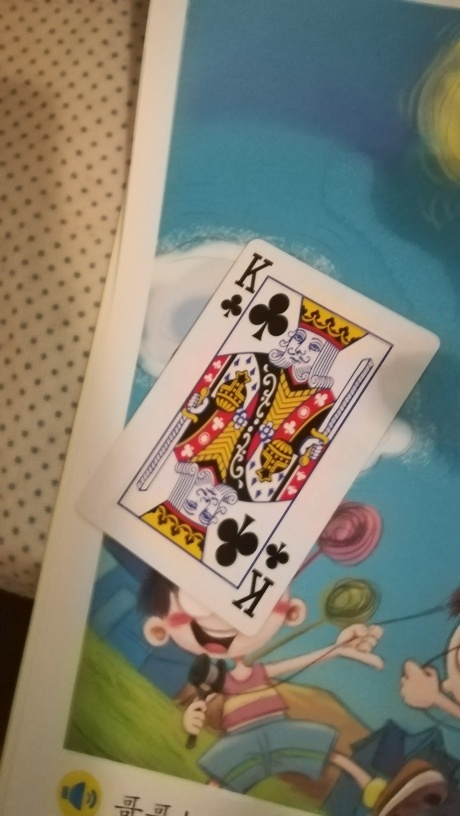mh k: (75, 234, 442, 638)
